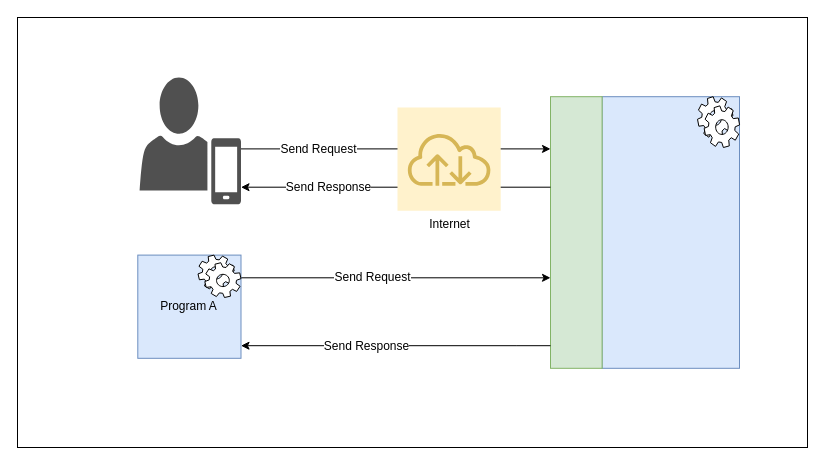
The diagram is 825 pixels wide and 465 high, and some of its shapes have lost their labels. Each missing label, with the box of its shape:
API: (550, 96, 602, 368)
Program B: (601, 96, 740, 368)
